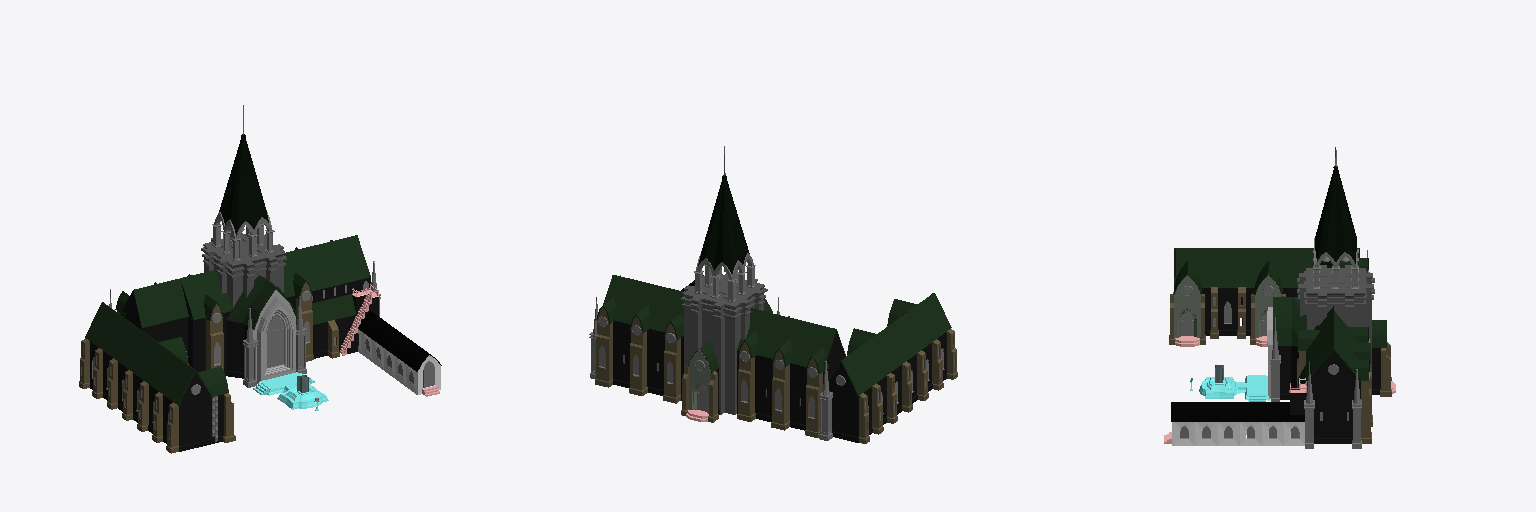
File: church.obj
3 renders of one model, left to right at view 1: azimuth 30°, elevation 25°; view 2: azimuth 150°, elevation 25°; view 3: azimuth 270°, elevation 25°, orthographic.
Visible parts, largest first — view 1: Church_LeftSide_Large_Roof_012, Church_Main_TowerCenter, Church_Main_Roof, Church_CENTER_Main_Wall_01, Church_Center_Roof_Longer_Bend_01, Church_Center_Roof_Short_010, Church_Center_Roof_Short_09, Church_Center_Roof_Short_01, Church_CENTER_Alter_Ground_01, Church_CENTER_Main_Wall_Roof_02, Church_CENTER_Side_Wall_01, Church_Center_Middle_Roof_01 (+10 smaller); view 2: Church_Main_TowerCenter, Church_LeftSide_Large_Roof_012, Church_Main_Roof, Church_Center_Roof_Longer_01, Church_Center_Roof_Short_06, Church_Center_Roof_Short_05, Church_Center_Roof_Short_07, Church_Center_Tall_Wall_wSWindow_06, Church_Center_Tall_Wall_wSWindow_02, Church_Center_Tall_Wall_wSWindow_05, Church_Center_Wall_Out_03, Church_Center_Tall_Wall_wSWindow_01 (+8 smaller); view 3: Church_LeftSide_Large_Roof_012.001, Church_Main_TowerCenter, Church_Main_Roof, Church_Center_Tall_Wall_wSWindow_08, Church_CENTER_Main_Wall_Roof_01, Church_CENTER_Alter_Ground_01, Church_Center_Tall_Wall_wSWindow_07, Church_LeftSide_Pointy_FrontWall_01, Church_CENTER_Side_Wall_03, Church_LeftSide_Wall_wWindow_01, Church_LeftSide_Pointy_FrontWall_08, Church_Center_Ending_Roof_01 (+5 smaller).
Boxes of the visible parts, <box> form: Church_LeftSide_Large_Roof_012: <box>85,302,195,405</box>; Church_Main_TowerCenter: <box>201,232,286,307</box>; Church_Main_Roof: <box>219,105,268,234</box>; Church_CENTER_Main_Wall_01: <box>253,290,295,383</box>; Church_Center_Roof_Longer_Bend_01: <box>133,279,188,327</box>; Church_Center_Roof_Short_010: <box>319,235,370,286</box>; Church_Center_Roof_Short_09: <box>283,245,331,295</box>; Church_Center_Roof_Short_01: <box>180,269,232,319</box>; Church_CENTER_Alter_Ground_01: <box>258,372,328,409</box>; Church_CENTER_Main_Wall_Roof_02: <box>227,275,275,329</box>; Church_CENTER_Side_Wall_01: <box>227,320,247,378</box>; Church_Center_Middle_Roof_01: <box>312,294,355,324</box>; Church_Main_TowerCenter: <box>681,273,767,414</box>; Church_LeftSide_Large_Roof_012: <box>841,293,951,395</box>; Church_Main_Roof: <box>698,146,749,273</box>; Church_Center_Roof_Longer_01: <box>781,318,836,367</box>; Church_Center_Roof_Short_06: <box>603,275,651,323</box>; Church_Center_Roof_Short_05: <box>737,308,789,358</box>; Church_Center_Roof_Short_07: <box>644,284,684,331</box>; Church_Center_Tall_Wall_wSWindow_06: <box>613,320,630,387</box>; Church_Center_Tall_Wall_wSWindow_02: <box>755,355,772,421</box>; Church_Center_Tall_Wall_wSWindow_05: <box>647,329,664,395</box>; Church_Center_Wall_Out_03: <box>771,350,789,430</box>; Church_Center_Tall_Wall_wSWindow_01: <box>790,363,806,430</box>; Church_LeftSide_Large_Roof_012.001: <box>1174,248,1359,287</box>; Church_Main_TowerCenter: <box>1297,265,1374,371</box>; Church_Main_Roof: <box>1315,147,1356,263</box>; Church_Center_Tall_Wall_wSWindow_08: <box>1311,381,1334,443</box>; Church_CENTER_Main_Wall_Roof_01: <box>1273,297,1306,346</box>; Church_CENTER_Alter_Ground_01: <box>1199,375,1269,400</box>; Church_Center_Tall_Wall_wSWindow_07: <box>1335,381,1360,443</box>; Church_LeftSide_Pointy_FrontWall_01: <box>1174,275,1200,337</box>; Church_CENTER_Side_Wall_03: <box>1278,346,1298,399</box>; Church_LeftSide_Wall_wWindow_01: <box>1218,288,1237,335</box>; Church_LeftSide_Pointy_FrontWall_08: <box>1255,273,1281,337</box>; Church_Center_Ending_Roof_01: <box>1311,350,1359,380</box>.
Bounding box in the file's own units: 73.93 × 64.88 × 54.1.